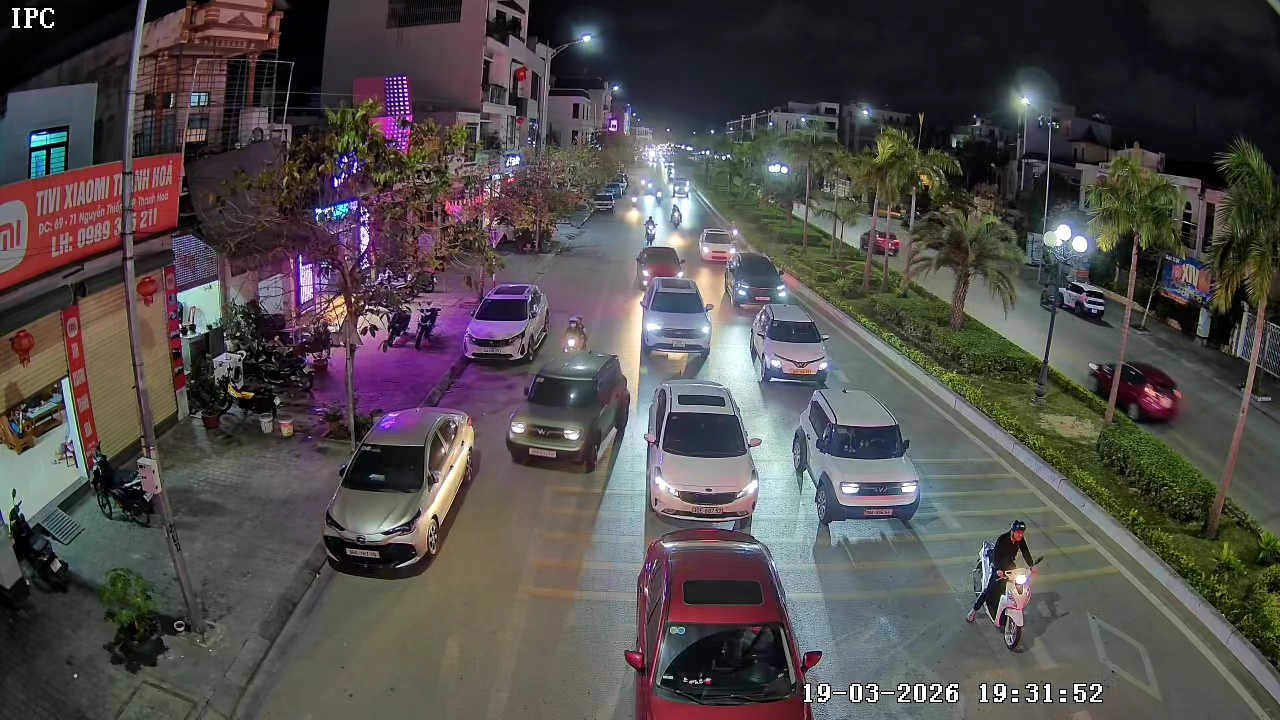car: (623, 528, 826, 719), (322, 405, 479, 576), (642, 378, 763, 528), (790, 387, 922, 524), (506, 350, 632, 470), (636, 274, 716, 373), (464, 281, 551, 364), (749, 302, 832, 388), (724, 249, 786, 310), (637, 242, 686, 290), (698, 224, 741, 265)
motorbike: (623, 528, 825, 719), (963, 518, 1051, 652), (562, 313, 589, 351), (642, 207, 658, 244), (670, 195, 686, 229)
